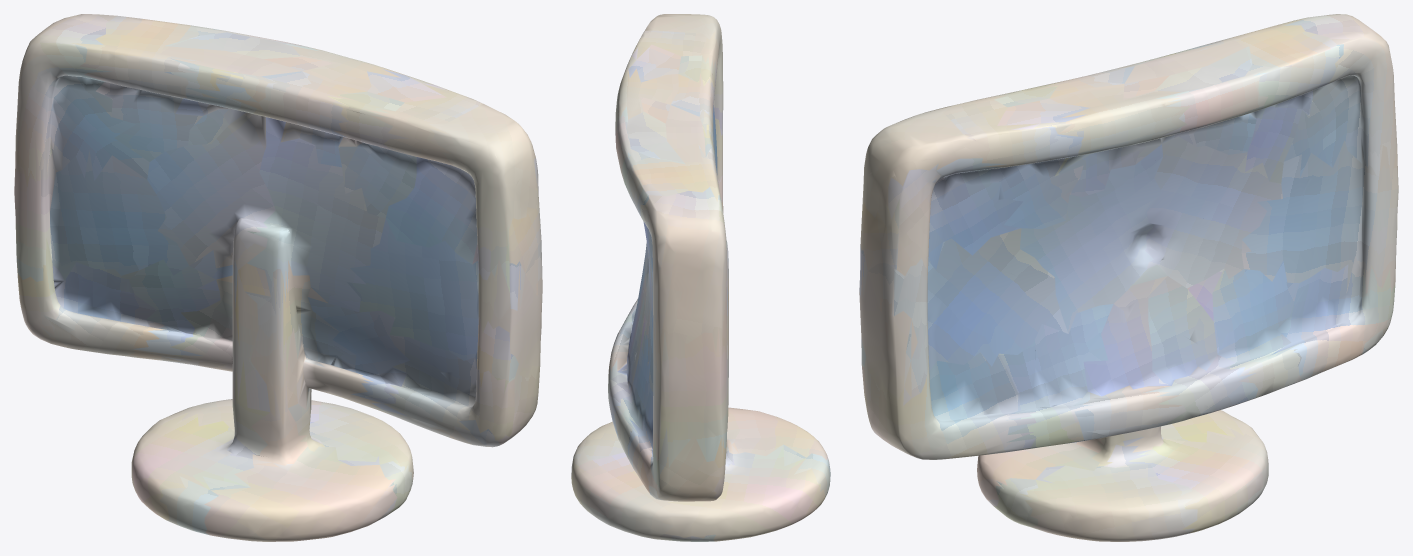
The model's file is KR_사물_s1_office_monitor.glb.
3 renders of one model, left to right at view 1: azimuth 30°, elevation 25°; view 2: azimuth 150°, elevation 25°; view 3: azimuth 270°, elevation 25°, orthographic. The views are drawn at different scales.
Parts seen in each view (by area): view 1: tripo_node_3421b48e-f810-4e2c-9bbe-a40bd95ed990; view 2: tripo_node_3421b48e-f810-4e2c-9bbe-a40bd95ed990; view 3: tripo_node_3421b48e-f810-4e2c-9bbe-a40bd95ed990.
Part boxes in pixels (x1,y1,x2,y2): tripo_node_3421b48e-f810-4e2c-9bbe-a40bd95ed990: (14, 14, 542, 541); tripo_node_3421b48e-f810-4e2c-9bbe-a40bd95ed990: (571, 14, 830, 541); tripo_node_3421b48e-f810-4e2c-9bbe-a40bd95ed990: (859, 14, 1398, 541).
Bounding box in the file's own units: 0.6544 × 0.8625 × 1.
1 material, 1 textured.
